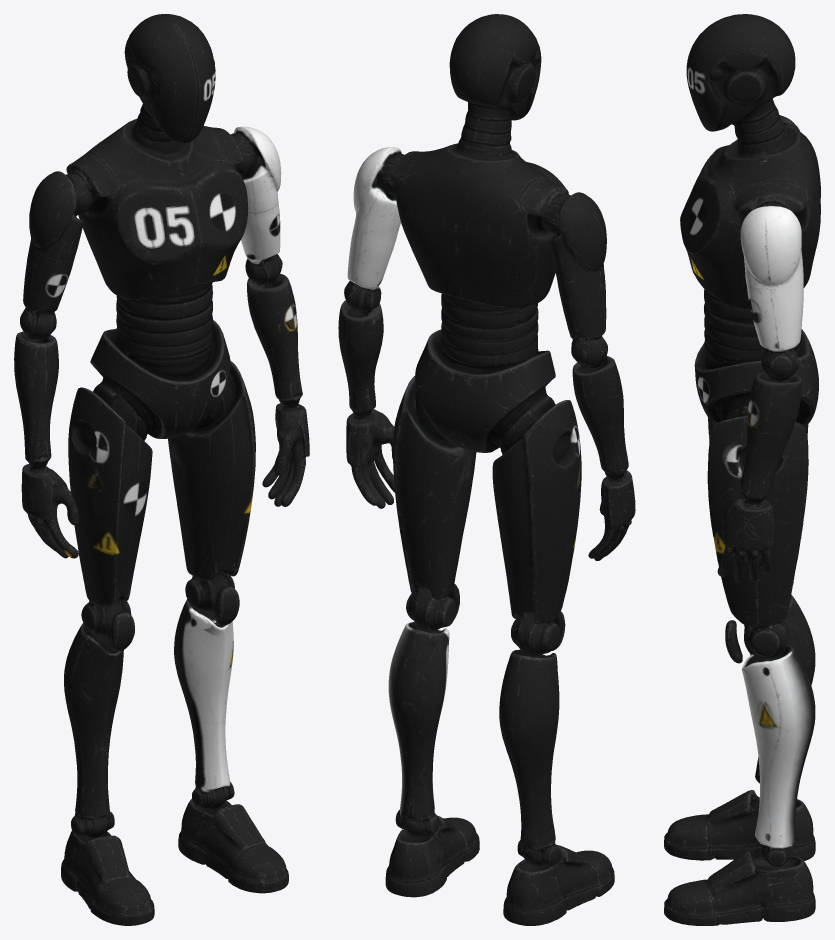
File: Test_Unit_06.glb
The picture shows the model from 3 angles, left to right: view 1: azimuth 30°, elevation 25°; view 2: azimuth 150°, elevation 25°; view 3: azimuth 270°, elevation 25°; orthographic projection.
Bounding box in the file's own units: 0.6436 × 1.9 × 0.3126.
1 material, 1 textured.
